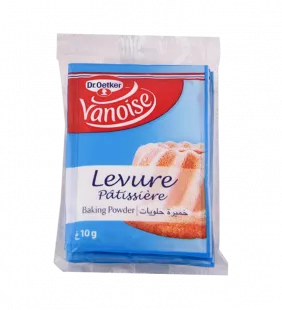Promotion: (44, 27, 236, 285)
